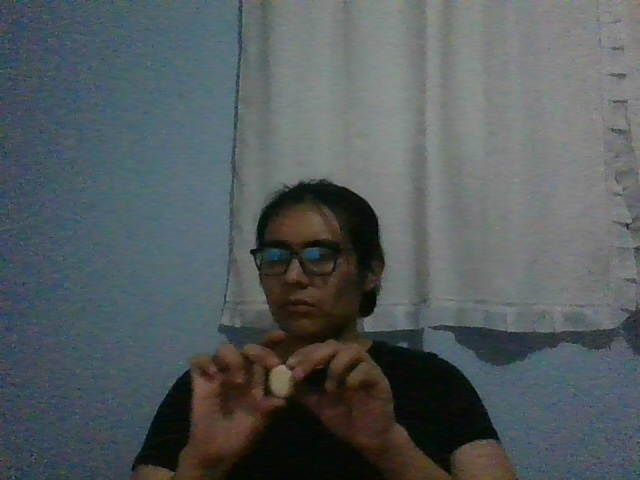goma: (268, 365, 294, 398)
